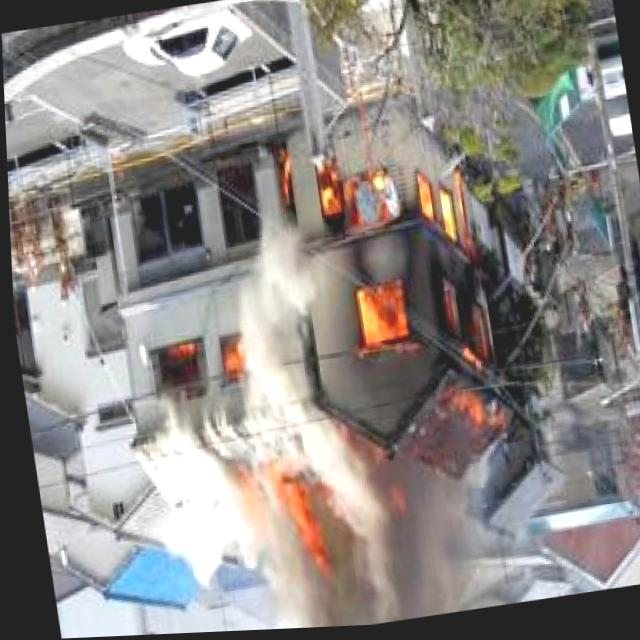helmet: (226, 455, 325, 580), (404, 372, 522, 457), (350, 285, 409, 353), (308, 162, 337, 221), (270, 151, 296, 212), (212, 330, 242, 381), (432, 192, 458, 248), (157, 338, 199, 367), (414, 181, 430, 218)
no_helmet: (130, 373, 478, 636)
